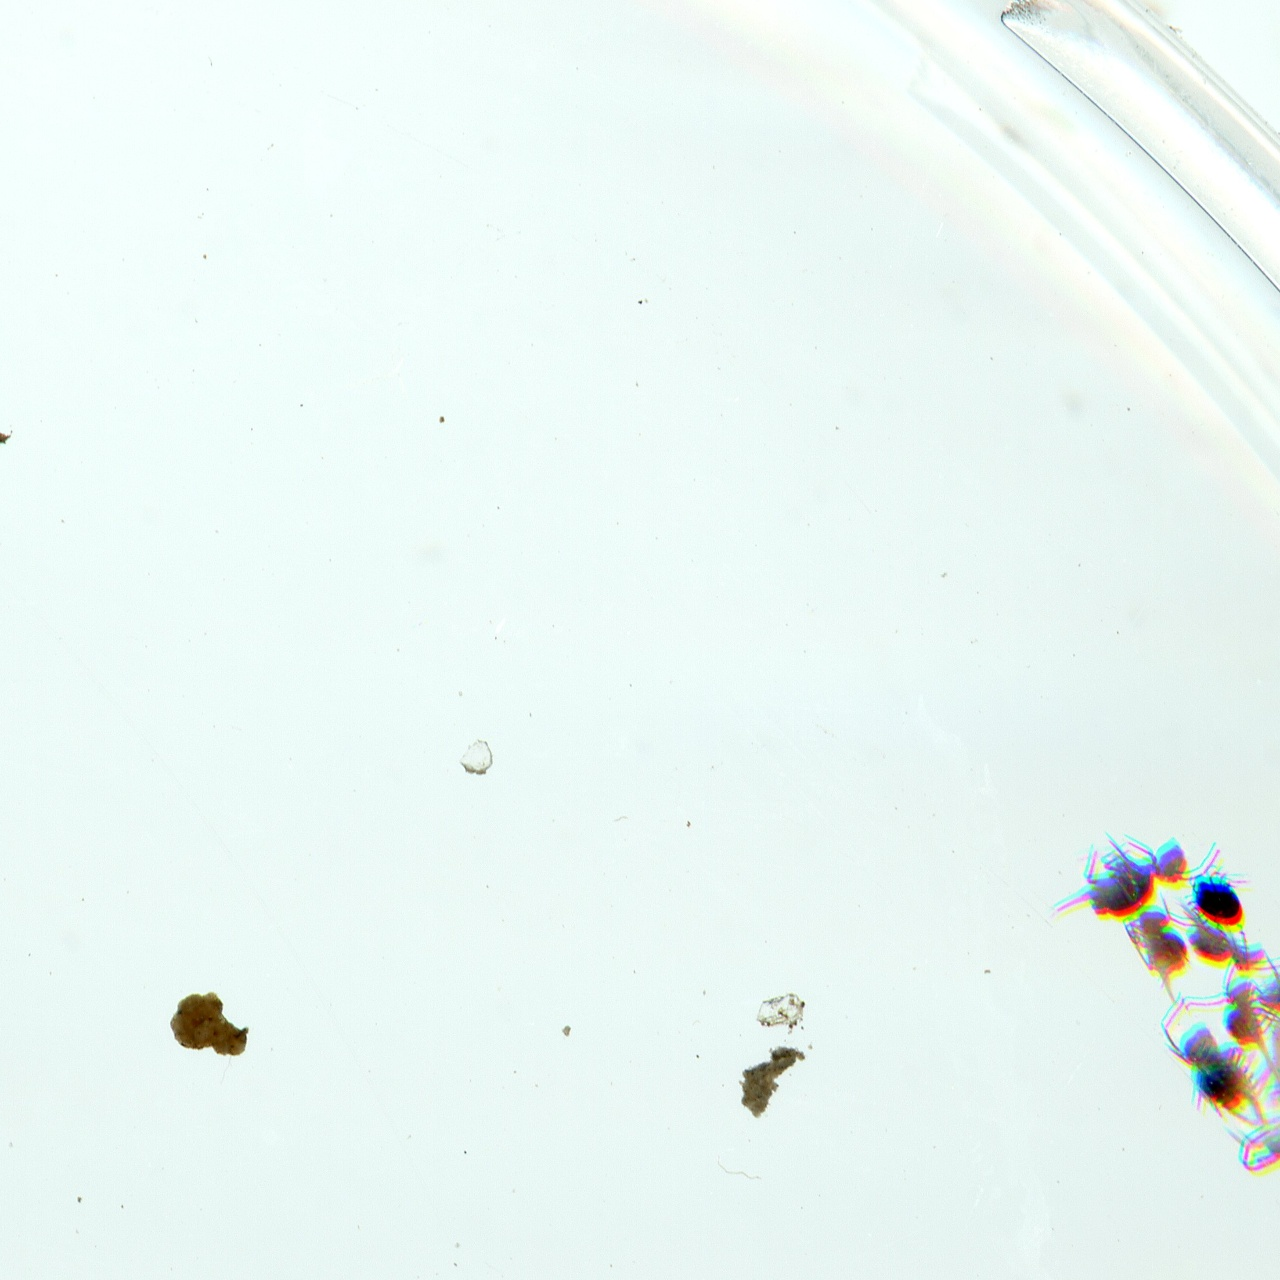arthropod: (1015, 783, 1238, 956), (1142, 973, 1279, 1152), (1107, 876, 1234, 1019), (1156, 893, 1280, 999), (1216, 949, 1280, 1078), (1235, 1016, 1280, 1178), (1184, 867, 1255, 937), (1258, 942, 1280, 1016)
